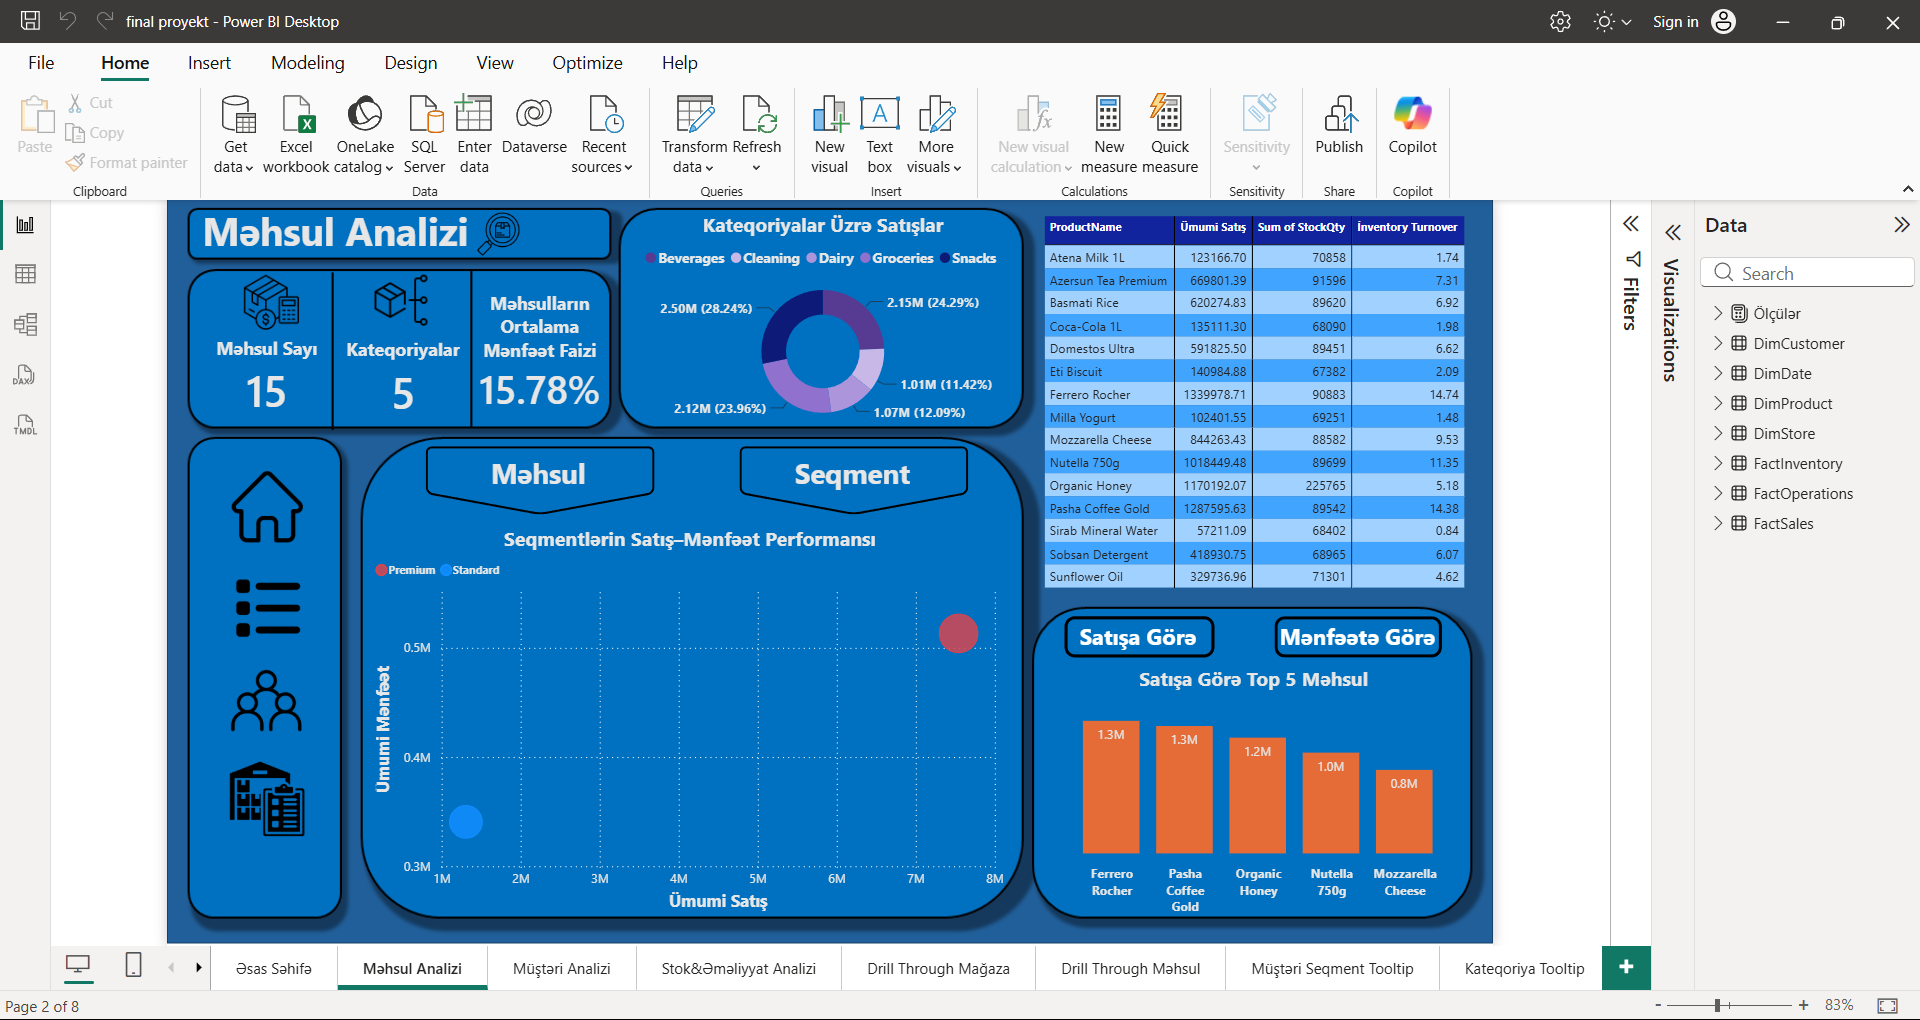

The dashboard page shown, as its layout file describes it:
{"tool":"powerbi","page":{"name":"Məhsul Analizi","canvas":[1280,720],"ordinal":1},"visuals":[{"type":"textbox","box":[307.4,239.5,106.2,45.7],"z":0},{"type":"textbox","box":[601.2,239.5,123.5,45.7],"z":1000},{"type":"textbox","box":[875.9,401.7,124.3,38.6],"z":2000},{"type":"textbox","box":[1068.9,401.7,161.7,38.6],"z":3000},{"type":"textbox","box":[28.8,0,278.8,61.2],"z":4000},{"type":"image","box":[57.5,537.5,77.5,80],"z":6000},{"type":"image","box":[56.2,448.8,78.8,68.8],"z":7000},{"type":"image","box":[53.8,360,86.2,68.8],"z":8000},{"type":"image","box":[53.8,261.2,85,68.8],"z":9000},{"type":"clusteredColumnChart","title":"Satışa Görə Top 5 Məhsul","fields":{"Category":["DimProduct.ProductName"],"Y":["Ölçülər.Ümumi Satış"]},"box":[840.3,449.4,416,249],"z":12000},{"type":"actionButton","box":[866.2,402,144.8,39.8],"z":14000},{"type":"actionButton","box":[1068.9,401.7,161.7,39.8],"z":15000},{"type":"tableEx","fields":{"Values":["DimProduct.ProductName","Ölçülər.Ümumi Satış","Sum(FactInventory.StockQty)","Ölçülər.İnventory Turnover"]},"box":[840.7,11.1,423.5,371.6],"z":17000},{"type":"shape","box":[249.7,237.7,220.8,66.4],"z":18000},{"type":"shape","box":[552.5,237.7,220.8,66.4],"z":19000},{"type":"scatterChart","title":"Seqmentlərin Satış–Mənfəət Performansı","fields":{"Y":["Ölçülər.Ümumi Mənfəət"],"X":["Ölçülər.Ümumi Satış"],"Size":["Ölçülər.Ümumi Miqdar"],"Series":["DimProduct.Segment"]},"box":[196.6,313.7,616.5,377.6],"z":20000},{"type":"actionButton","box":[249.7,237.4,220.9,65.9],"z":21000},{"type":"actionButton","box":[553,237.4,220.9,65.9],"z":22000},{"type":"donutChart","title":"Kateqoriyalar Üzrə Satışlar","fields":{"Category":["DimProduct.Category"],"Y":["Ölçülər.Ümumi Satış"]},"box":[449,11.2,368.8,216.2],"z":23000},{"type":"cardVisual","fields":{"Data":["Ölçülər.Məhsul Sayı"]},"box":[13.3,119.4,166.5,103.8],"z":24000},{"type":"cardVisual","fields":{"Data":["Ölçülər.Kateqoriyalar"]},"box":[136.3,121,183.7,103],"z":25000},{"type":"image","box":[72.3,54.3,57,89],"z":26000},{"type":"shape","box":[39.8,70,240.1,152],"z":27000},{"type":"image","box":[196.2,48.7,58.4,97.4],"z":28000},{"type":"actionButton","box":[57,261.6,83.5,68.2],"z":29000},{"type":"actionButton","box":[58.4,360.3,83.5,68.2],"z":30000},{"type":"actionButton","box":[51.5,449.4,83.5,68.2],"z":31000},{"type":"actionButton","box":[51.5,538.4,83.5,68.2],"z":32000},{"type":"image","box":[280,11.2,80,43.8],"z":33000},{"type":"cardVisual","fields":{"Data":["Ölçülər.Avg Product Margin %"]},"box":[261.6,61.2,196.2,171.1],"z":34000},{"type":"shape","box":[173.7,67.6,240.1,152],"z":35000}]}

Visuals, with their boxes on the page's 1280x720 design canvas (x1, y1, x2, y2). These are canvas units, not pixel positions in the 1920x1020 screenshot, which may show the page scaled, cropped or inside an application window:
textbox: [307, 240, 414, 285]
textbox: [601, 240, 725, 285]
textbox: [876, 402, 1000, 440]
textbox: [1069, 402, 1231, 440]
textbox: [29, 0, 308, 61]
image: [58, 538, 135, 618]
image: [56, 449, 135, 518]
image: [54, 360, 140, 429]
image: [54, 261, 139, 330]
"Satışa Görə Top 5 Məhsul" clusteredColumnChart: [840, 449, 1256, 698]
actionButton: [866, 402, 1011, 442]
actionButton: [1069, 402, 1231, 442]
tableEx - DimProduct.ProductName x Ölçülər.Ümumi Satış: [841, 11, 1264, 383]
shape: [250, 238, 470, 304]
shape: [552, 238, 773, 304]
"Seqmentlərin Satış–Mənfəət Performansı" scatterChart: [197, 314, 813, 691]
actionButton: [250, 237, 471, 303]
actionButton: [553, 237, 774, 303]
"Kateqoriyalar Üzrə Satışlar" donutChart: [449, 11, 818, 227]
cardVisual - Ölçülər.Məhsul Sayı: [13, 119, 180, 223]
cardVisual - Ölçülər.Kateqoriyalar: [136, 121, 320, 224]
image: [72, 54, 129, 143]
shape: [40, 70, 280, 222]
image: [196, 49, 255, 146]
actionButton: [57, 262, 140, 330]
actionButton: [58, 360, 142, 428]
actionButton: [52, 449, 135, 518]
actionButton: [52, 538, 135, 607]
image: [280, 11, 360, 55]
cardVisual - Ölçülər.Avg Product Margin %: [262, 61, 458, 232]
shape: [174, 68, 414, 220]
